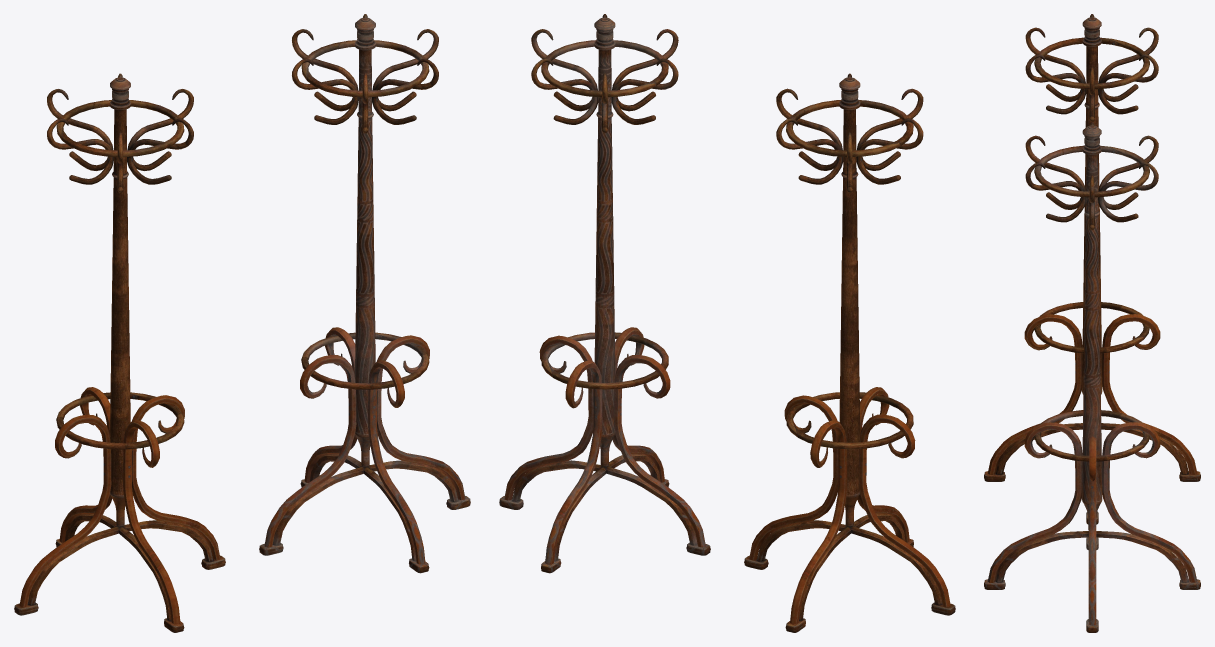
The model's file is wooden_coat_rack.glb.
The picture shows the model from 3 angles, left to right: view 1: azimuth 30°, elevation 25°; view 2: azimuth 150°, elevation 25°; view 3: azimuth 270°, elevation 25°; orthographic projection. The views are drawn at different scales.
Visible parts, largest first — view 1: Early 1900s Wooden Coat Rack Type B Ornate_1, Early 1900s Wooden Coat Rack Type B Standard_0; view 2: Early 1900s Wooden Coat Rack Type B Ornate_1, Early 1900s Wooden Coat Rack Type B Standard_0; view 3: Early 1900s Wooden Coat Rack Type B Ornate_1, Early 1900s Wooden Coat Rack Type B Standard_0.
Boxes of the visible parts, left/top/right/bottom form: Early 1900s Wooden Coat Rack Type B Ornate_1: left=259, top=14, right=470, bottom=573; Early 1900s Wooden Coat Rack Type B Standard_0: left=14, top=73, right=225, bottom=632; Early 1900s Wooden Coat Rack Type B Ornate_1: left=499, top=14, right=710, bottom=573; Early 1900s Wooden Coat Rack Type B Standard_0: left=744, top=73, right=955, bottom=632; Early 1900s Wooden Coat Rack Type B Ornate_1: left=984, top=122, right=1200, bottom=632; Early 1900s Wooden Coat Rack Type B Standard_0: left=984, top=14, right=1200, bottom=524.
Bounding box in the file's own units: 1.5 × 1.62 × 0.6895.
Materials: 2 (2 with a texture image).
